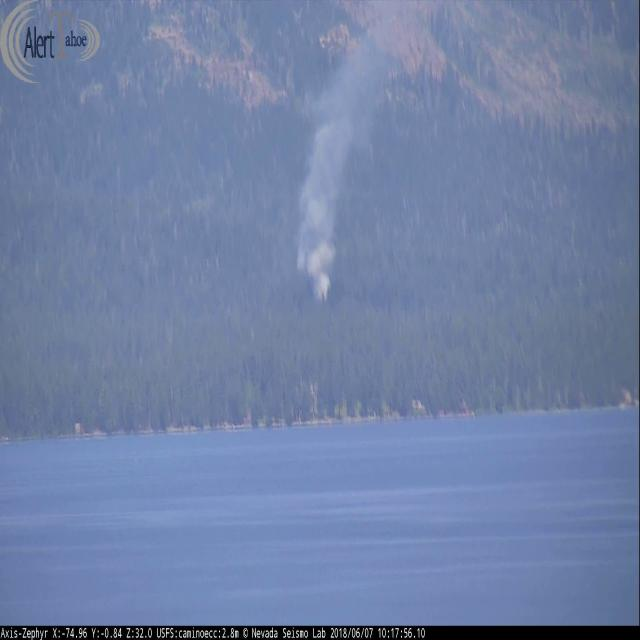smoke: (283, 19, 399, 314)
